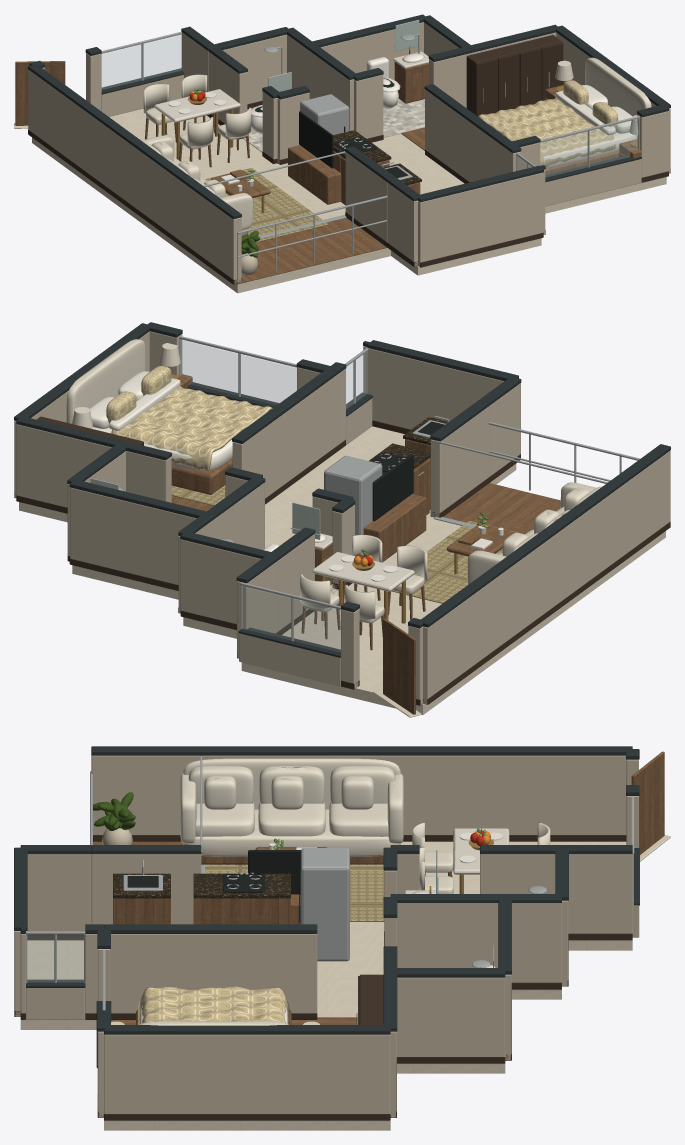
The model's file is Codename-Elements_Tower-1_Flat-05_1BHK.glb.
3 views of the same model, one above another, from view 1: azimuth 30°, elevation 25°; view 2: azimuth 150°, elevation 25°; view 3: azimuth 270°, elevation 25° (orthographic). The views are drawn at different scales.
Visible parts, largest first — view 1: Ivory masonry.008, Apartment foundation, Ivory masonry.010, Soft jacquard duvet with folds.003, Ivory masonry.017, Cutaway window glazing, Cutaway window glazing.001, Charcoal wall cut.008, Ivory masonry.024, Living woven carpet, Window sill, Ivory masonry.002 (+59 smaller); view 2: Ivory masonry.008, Apartment foundation, Ivory masonry.002, Ivory masonry.010, Soft jacquard duvet with folds.003, Ivory masonry.017, Ivory masonry, Cutaway window glazing, Ivory masonry.004, Ivory masonry.024, Cutaway window glazing.001, Charcoal wall cut.008 (+51 smaller); view 3: Ivory masonry.008, Ivory masonry.015, Apartment foundation, Ivory masonry.017, Ivory masonry.001, Ivory masonry.020, Charcoal wall cut.008, Ivory masonry.005, Brushed refrigerator, Ivory masonry.009, Soft jacquard duvet with folds.003, Ivory masonry.024 (+52 smaller).
Part boxes in pixels (x1=…): Ivory masonry.008: x1=28, y1=70, x2=241, y2=284; Apartment foundation: x1=32, y1=107, x2=666, y2=293; Ivory masonry.010: x1=418, y1=172, x2=543, y2=266; Soft jacquard duvet with folds.003: x1=478, y1=98, x2=615, y2=166; Ivory masonry.017: x1=425, y1=89, x2=505, y2=182; Cutaway window glazing: x1=540, y1=119, x2=638, y2=177; Cutaway window glazing.001: x1=102, y1=35, x2=181, y2=89; Charcoal wall cut.008: x1=28, y1=64, x2=241, y2=219; Ivory masonry.024: x1=345, y1=152, x2=387, y2=241; Living woven carpet: x1=205, y1=168, x2=328, y2=242; Window sill: x1=545, y1=159, x2=641, y2=206; Ivory masonry.002: x1=320, y1=22, x2=423, y2=80; Ivory masonry.008: x1=423, y1=450, x2=670, y2=704; Apartment foundation: x1=19, y1=426, x2=665, y2=714; Ivory masonry.002: x1=70, y1=487, x2=196, y2=584; Ivory masonry.010: x1=368, y1=348, x2=503, y2=429; Soft jacquard duvet with folds.003: x1=111, y1=386, x2=272, y2=470; Ivory masonry.017: x1=232, y1=375, x2=337, y2=498; Ivory masonry: x1=16, y1=424, x2=111, y2=507; Cutaway window glazing: x1=181, y1=340, x2=296, y2=405; Ivory masonry.004: x1=180, y1=539, x2=261, y2=623; Ivory masonry.024: x1=430, y1=406, x2=489, y2=517; Cutaway window glazing.001: x1=243, y1=587, x2=340, y2=652; Charcoal wall cut.008: x1=421, y1=444, x2=670, y2=627; Ivory masonry.008: x1=91, y1=755, x2=626, y2=834; Ivory masonry.015: x1=104, y1=1034, x2=390, y2=1113; Apartment foundation: x1=20, y1=841, x2=632, y2=1130; Ivory masonry.017: x1=110, y1=934, x2=317, y2=1013; Ivory masonry.001: x1=396, y1=977, x2=505, y2=1056; Ivory masonry.020: x1=396, y1=903, x2=560, y2=982; Charcoal wall cut.008: x1=91, y1=746, x2=632, y2=755; Ivory masonry.005: x1=568, y1=854, x2=632, y2=933; Brushed refrigerator: x1=300, y1=848, x2=349, y2=961; Ivory masonry.009: x1=27, y1=854, x2=91, y2=931; Soft jacquard duvet with folds.003: x1=138, y1=986, x2=289, y2=1024; Ivory masonry.024: x1=91, y1=854, x2=201, y2=924.
Bounding box in the file's own units: 7.86 × 1.37 × 7.6.
Materials: 25 (6 with a texture image).
